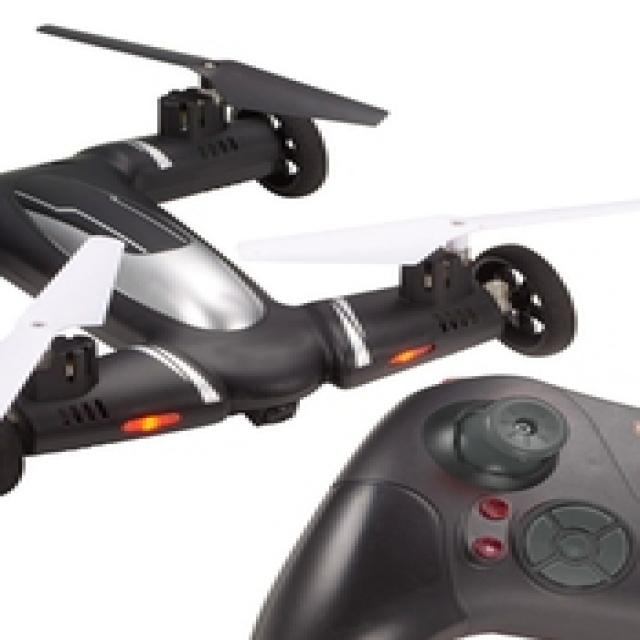drone: (0, 26, 640, 494)
